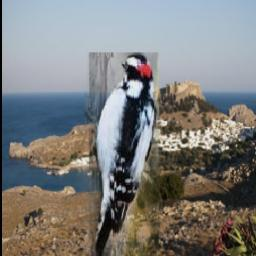Woodpecker: (85, 52, 159, 256)
